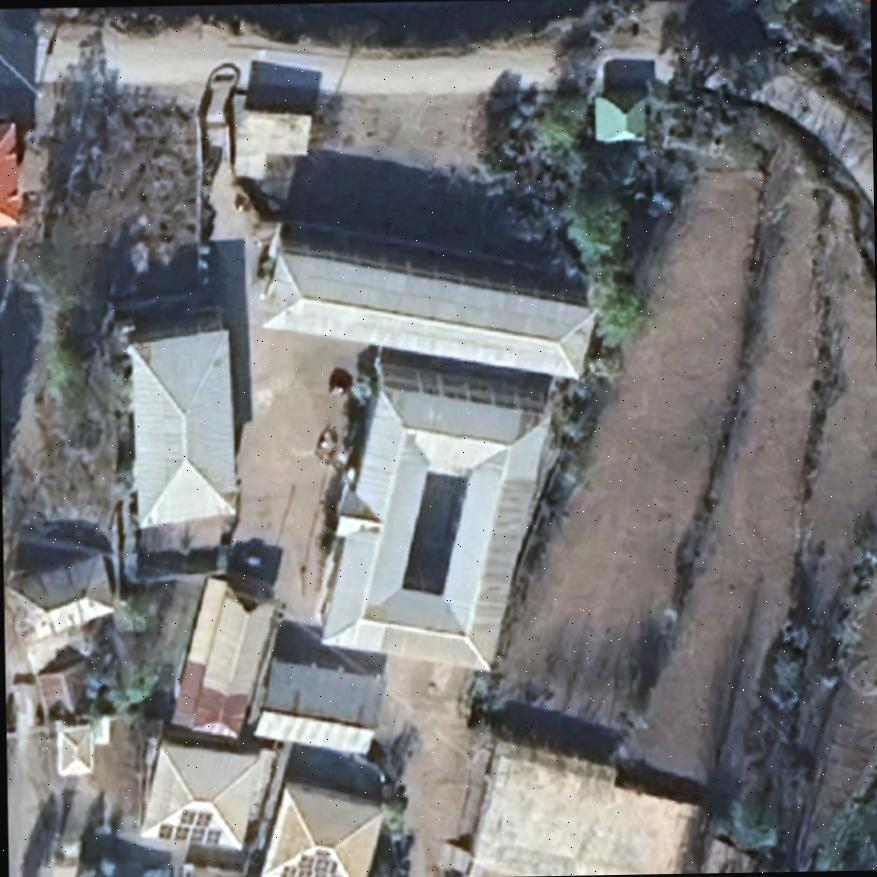Solarpanel: (153, 804, 224, 850), (274, 848, 345, 877)
